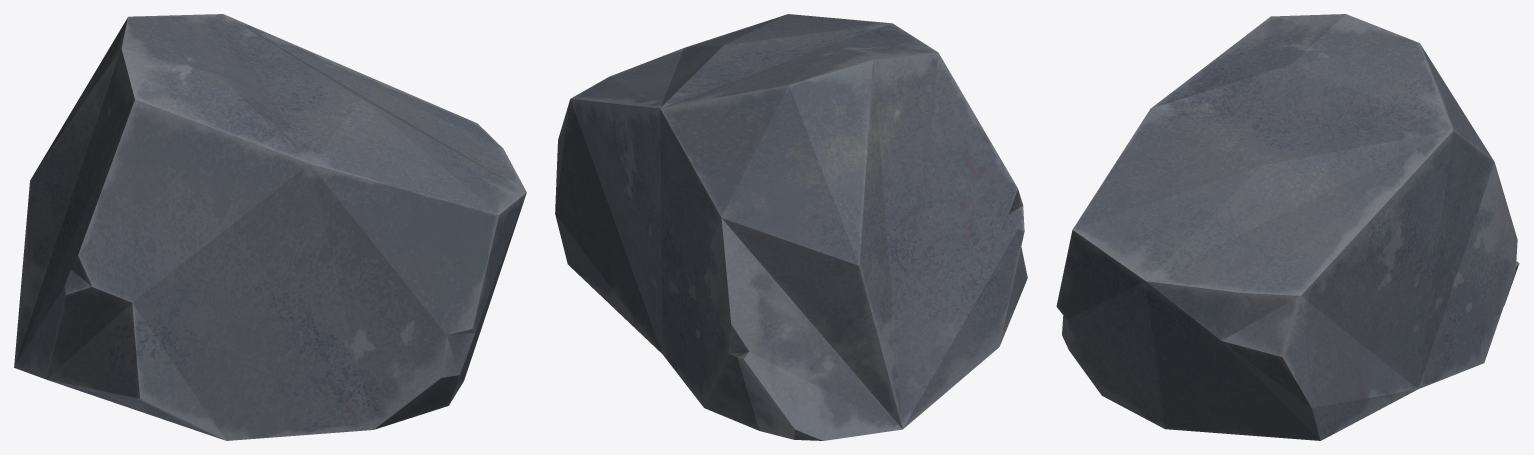
Rendered from rock8.glb.
3 views of the same model, side by side, from view 1: azimuth 30°, elevation 25°; view 2: azimuth 150°, elevation 25°; view 3: azimuth 270°, elevation 25° (orthographic). The views are drawn at different scales.
Visible parts, largest first — view 1: Object_47; view 2: Object_47; view 3: Object_47.
Boxes of the visible parts, <box> form: Object_47: <box>14,14,526,440</box>; Object_47: <box>555,14,1027,440</box>; Object_47: <box>1056,14,1519,440</box>.
Bounding box in the file's own units: 1.6 × 1.13 × 1.49.
1 material, 1 textured.
